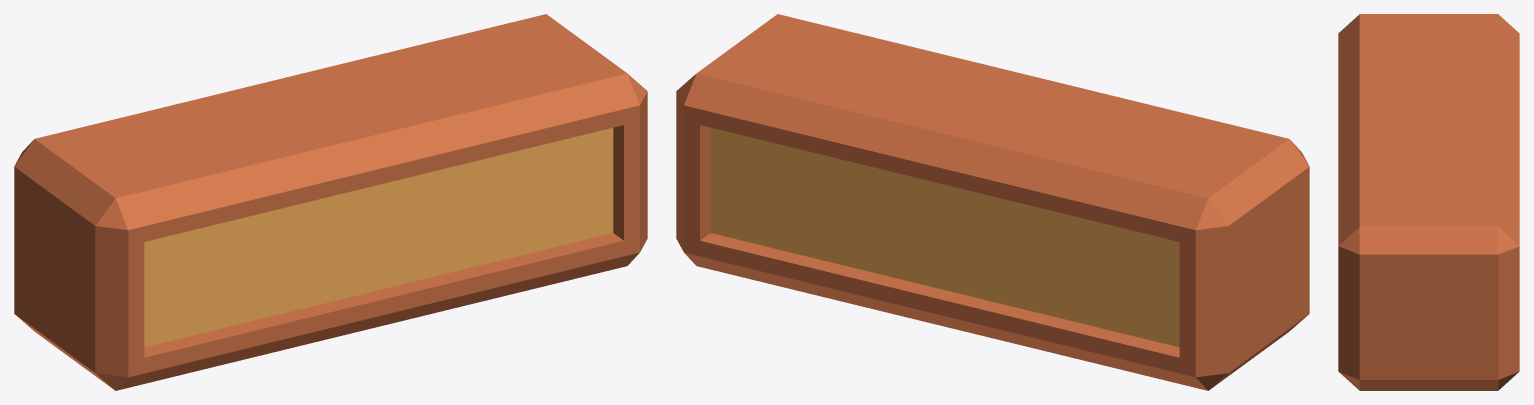
File: lift.fbx
3 renders of one model, left to right at view 1: azimuth 30°, elevation 25°; view 2: azimuth 150°, elevation 25°; view 3: azimuth 270°, elevation 25°, orthographic. The views are drawn at different scales.
Parts seen in each view (by area): view 1: Mesh; view 2: Mesh; view 3: Mesh.
Part boxes in pixels (x1,y1,x2,y2): Mesh: (14, 14, 647, 390); Mesh: (676, 14, 1309, 390); Mesh: (1338, 14, 1519, 390).
Size of the model in its own units: 3 by 1 by 1.
